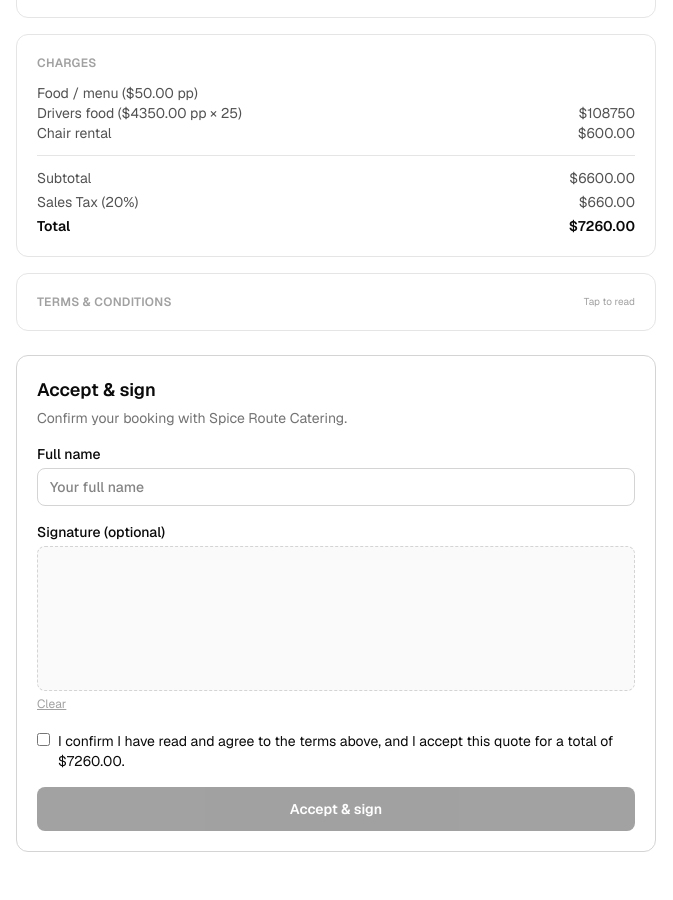
Scenario: Public booking sign page › renders the booking and signs with name + consent
(page scrolled)
expect the text "$7260.00" is shown: met, box [569, 216, 635, 236]
expect the button "Accept & sign" is disabled: met, box [37, 787, 635, 831]
Type "Aisha Khan" into the field labelled "Full name".
click(336, 487); type("Aisha Khan")  # box [37, 468, 635, 506]
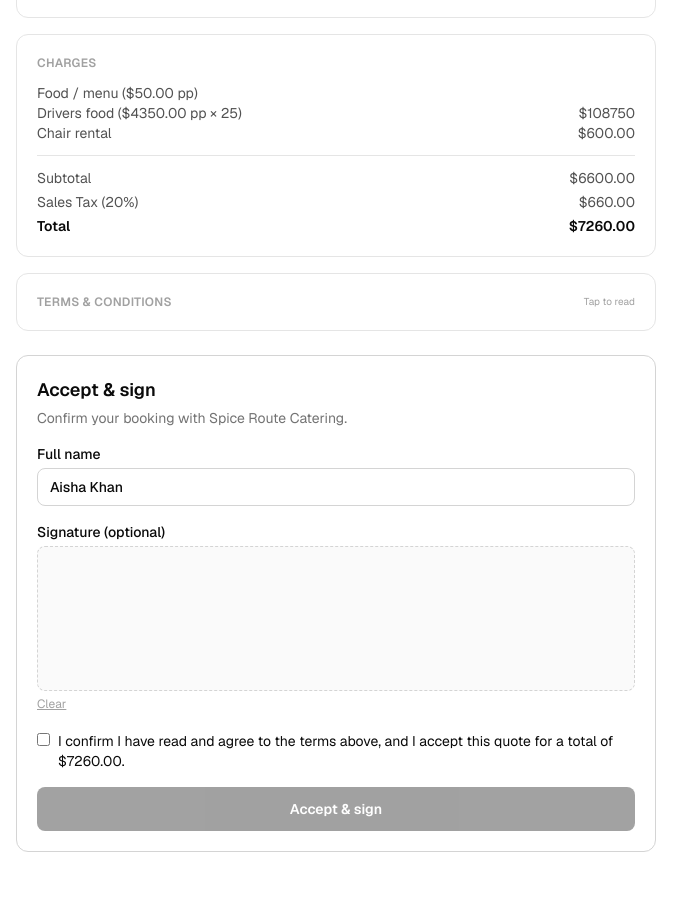
Click the checkbox named "I agree to the terms".
click(44, 740)  # box [37, 733, 50, 746]
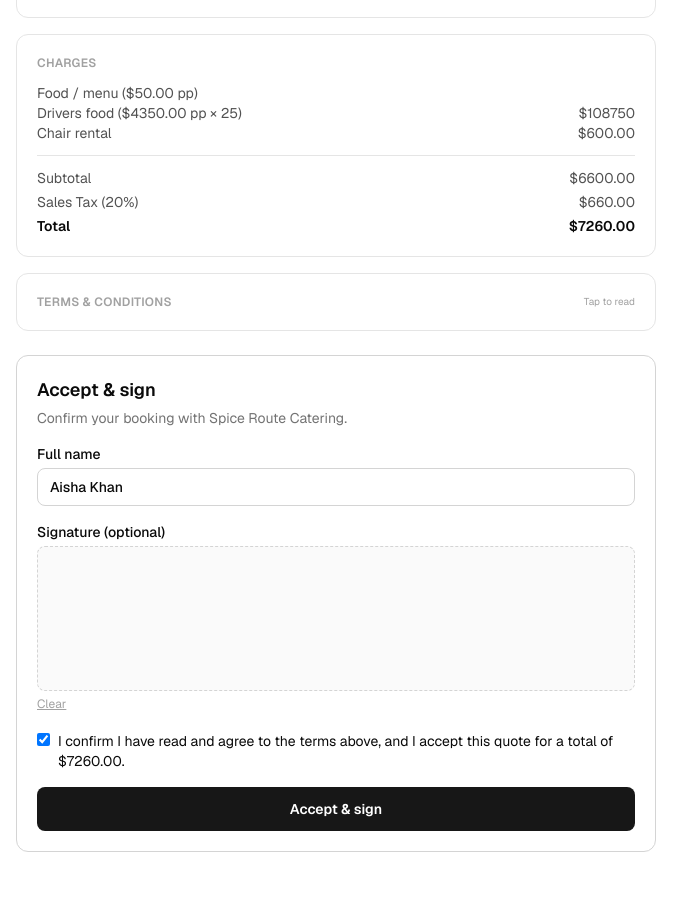
expect the button "Accept & sign" is enabled: met
Click the button "Accept & sign".
click(336, 809)  # box [37, 787, 635, 831]
(page scrolled)
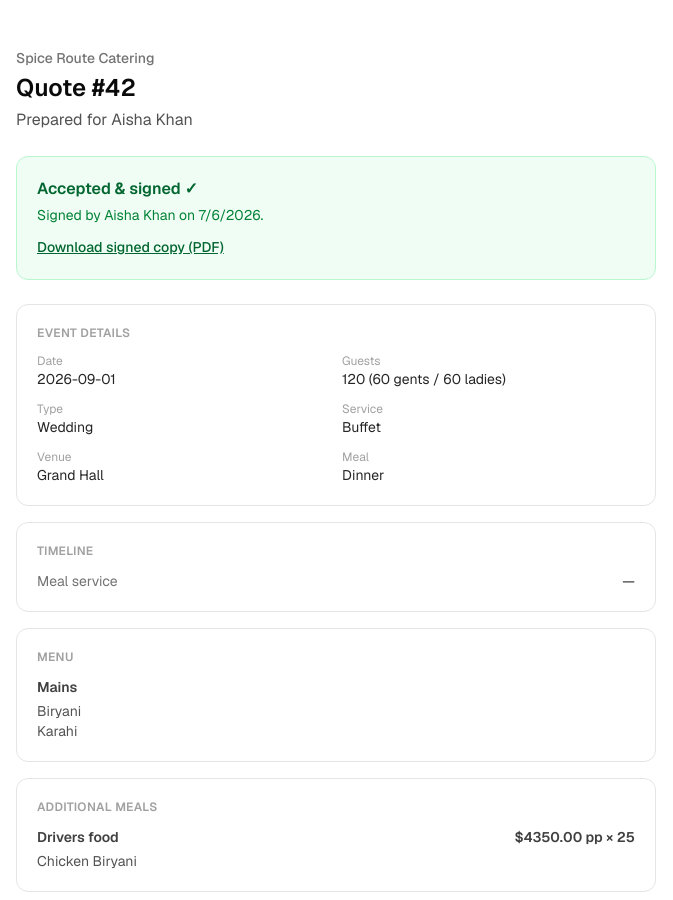
expect the text "Accepted & signed ✓" is shown: met, box [37, 178, 198, 199]
expect the text "Signed by Aisha Khan on 7/6/2026." is shown: met, box [37, 206, 263, 224]
